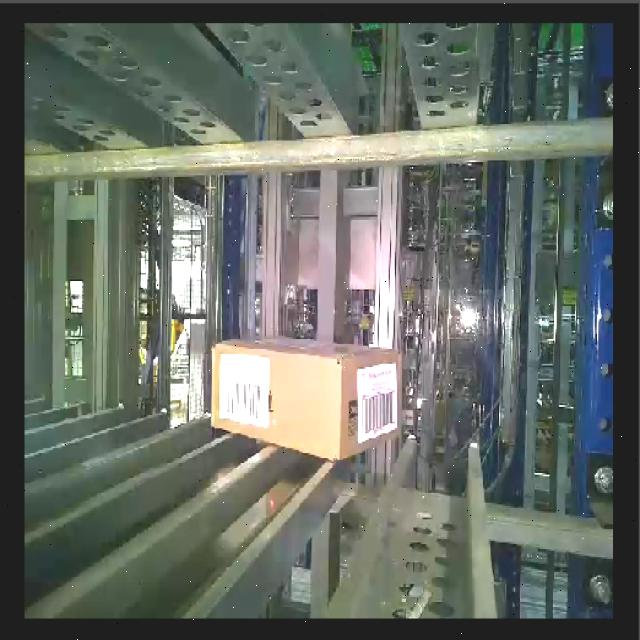box: (205, 339, 345, 461)
